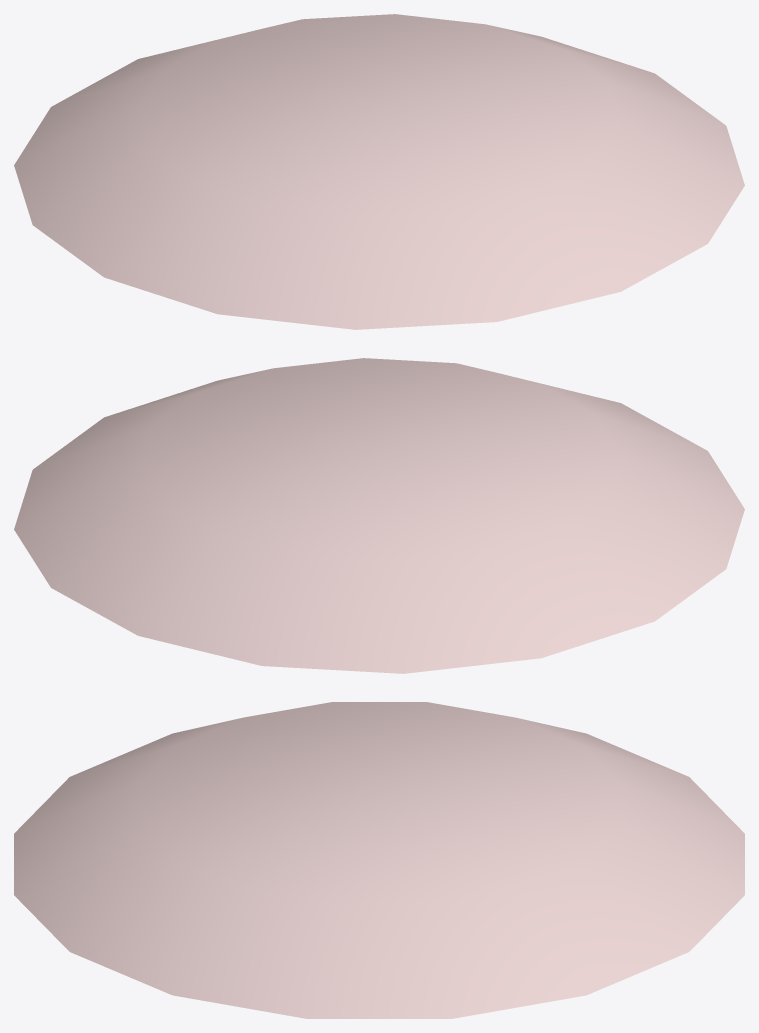
The model's file is JumpPadHitbox_v3.fbx.
3 renders of one model, top to bottom at view 1: azimuth 30°, elevation 25°; view 2: azimuth 150°, elevation 25°; view 3: azimuth 270°, elevation 25°, orthographic.
Parts seen in each view (by area): view 1: JumpPad_v3_Hitbox; view 2: JumpPad_v3_Hitbox; view 3: JumpPad_v3_Hitbox.
Part boxes in pixels (x1=…): JumpPad_v3_Hitbox: x1=14, y1=14, x2=744, y2=329; JumpPad_v3_Hitbox: x1=14, y1=358, x2=744, y2=673; JumpPad_v3_Hitbox: x1=14, y1=702, x2=744, y2=1018.
Size of the model in its own units: 2.86 by 0.2642 by 2.86.
